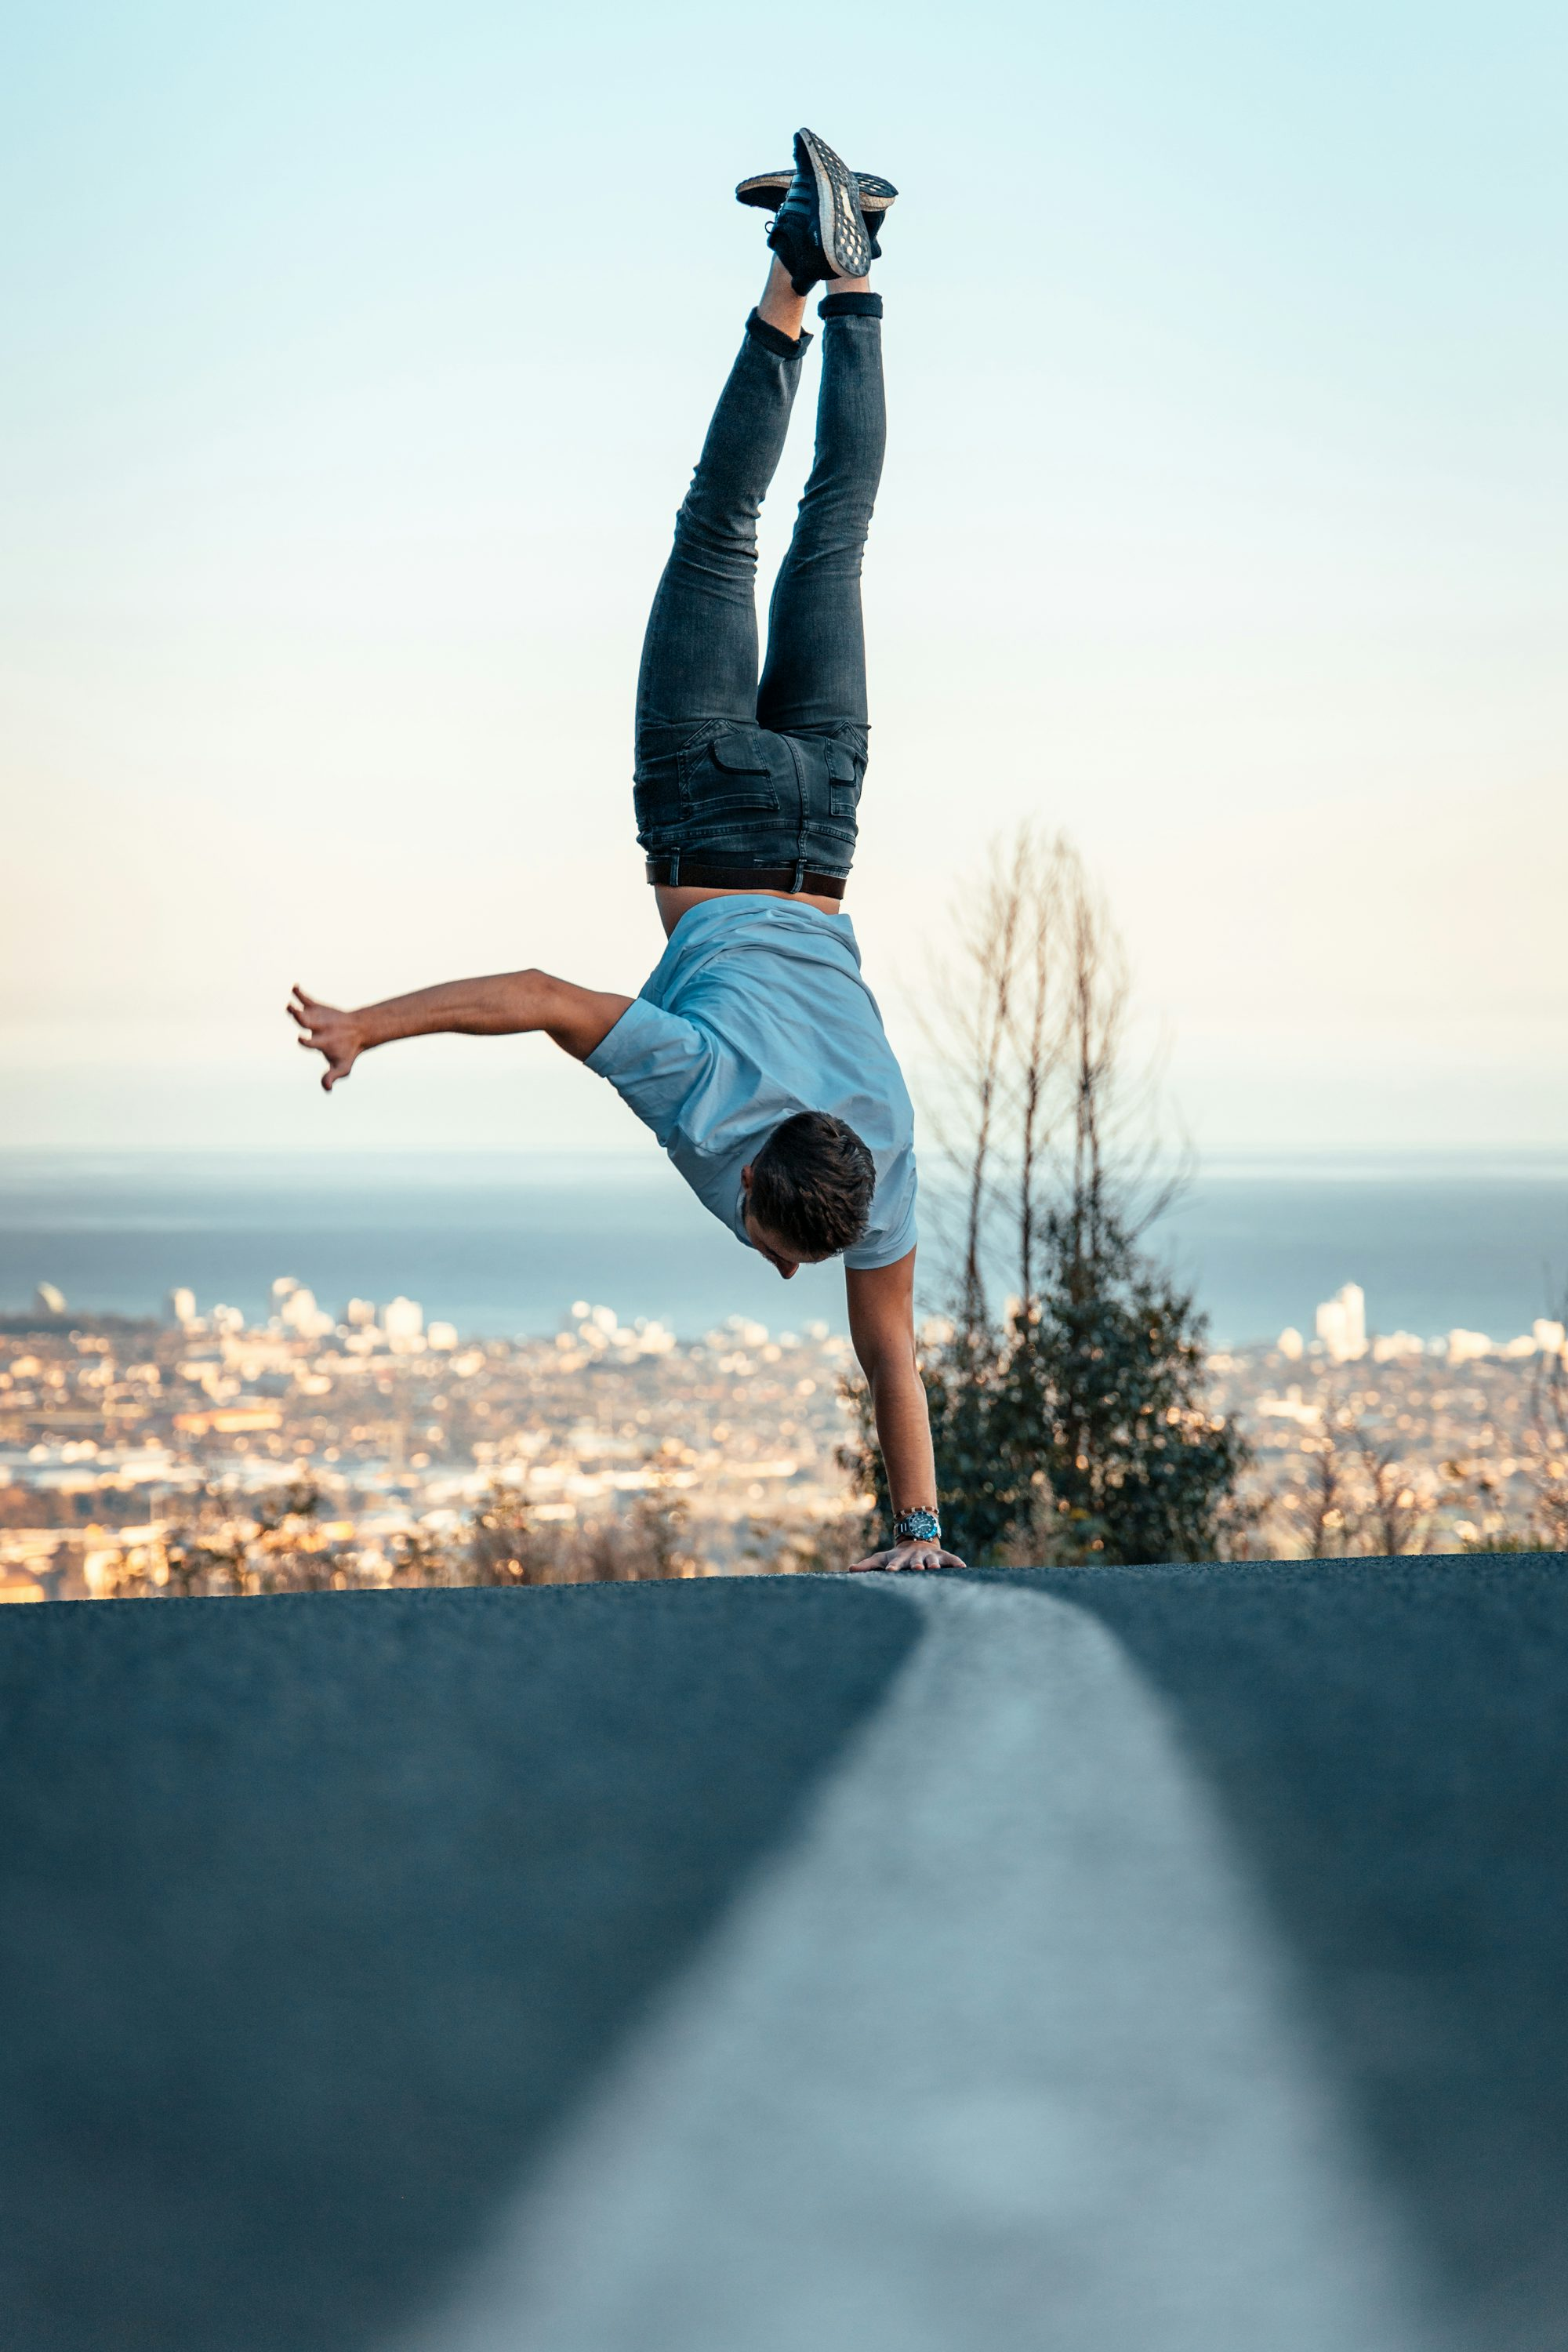person: (278, 44, 1042, 1639)
